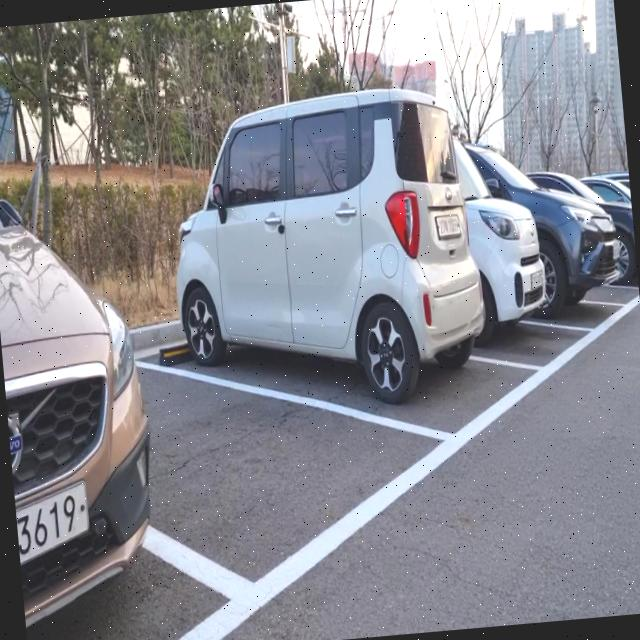empty: (130, 321, 463, 614)
occupied: (199, 88, 541, 456), (464, 180, 594, 386), (538, 188, 630, 346)
